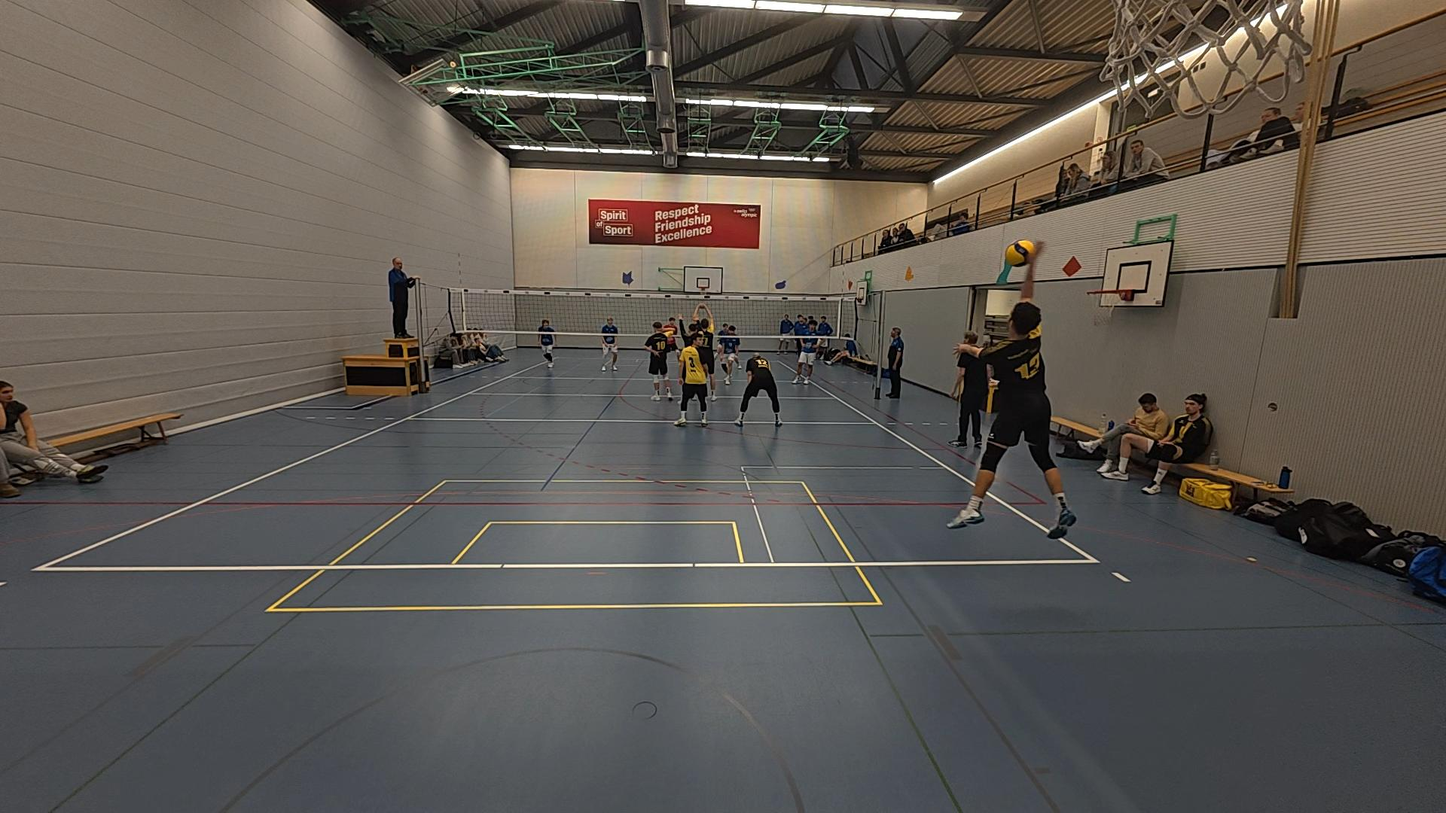Player: (734, 349, 782, 428), (676, 333, 710, 428), (677, 313, 704, 406), (689, 309, 718, 391), (645, 321, 674, 400), (791, 320, 822, 385), (718, 319, 740, 386), (715, 322, 743, 370), (659, 316, 683, 367), (600, 316, 621, 371), (536, 315, 557, 370)
Serve: (945, 253, 1078, 541)
ball: (1006, 239, 1036, 265)
